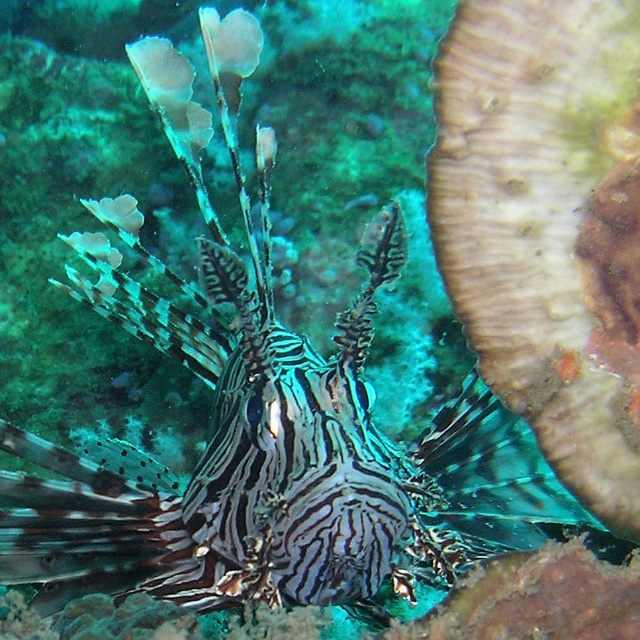Fish: (0, 6, 624, 638)
